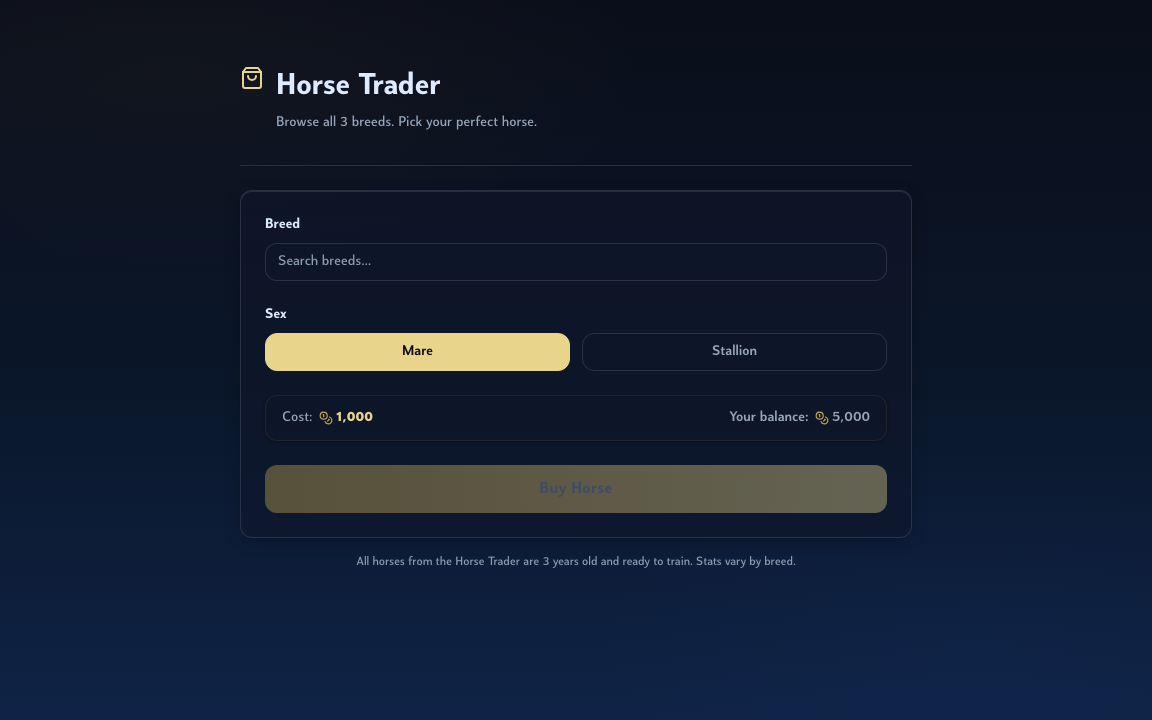
Test: HorseTraderPage — success path › shows horse name and stable link after successful purchase
Note: Pick a breed
Click the dropdown labelled "Breed".
click(576, 262)  # box [265, 243, 887, 281]
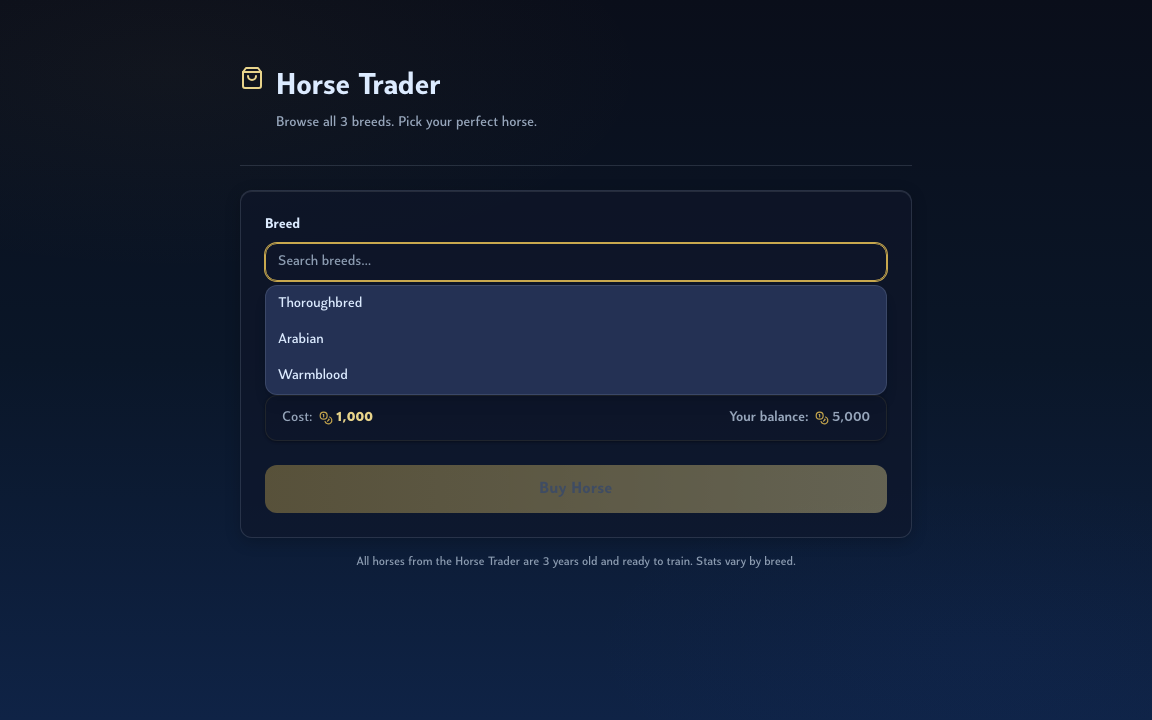
Click the option "Thoroughbred".
click(320, 304)  # box [278, 296, 362, 311]
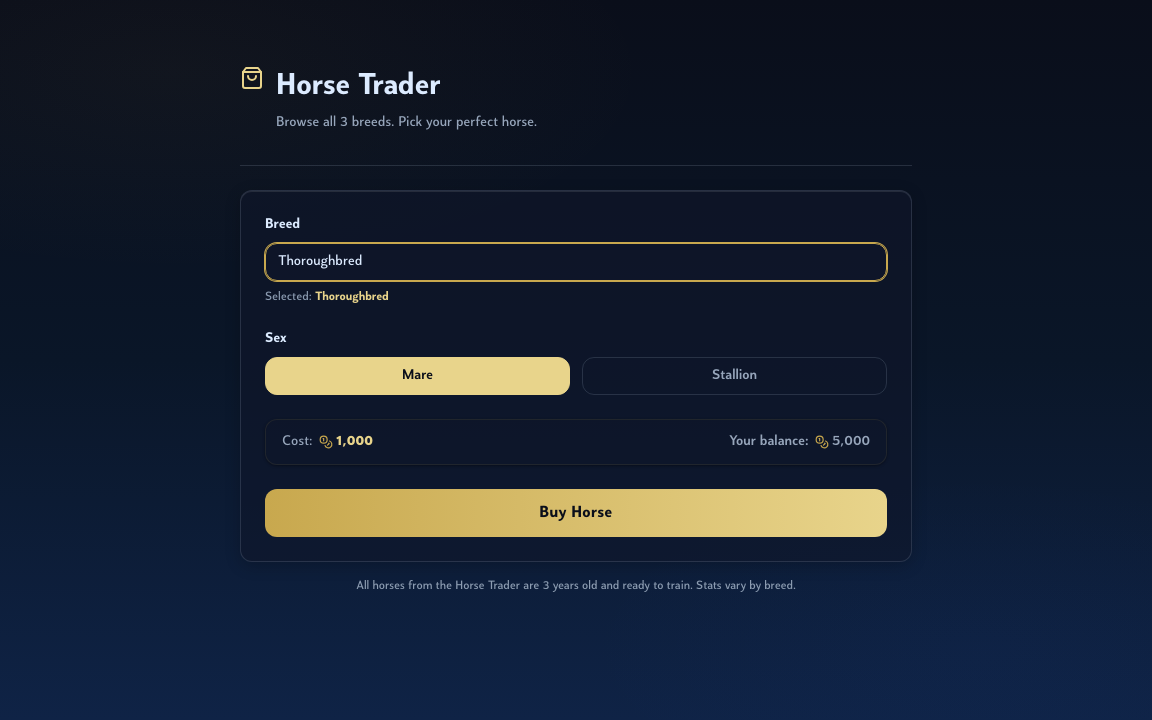
Now the button with test id "buy-horse-button" is enabled
Note: Click Buy
Click the button with test id "buy-horse-button".
click(576, 513)  # box [265, 489, 887, 537]
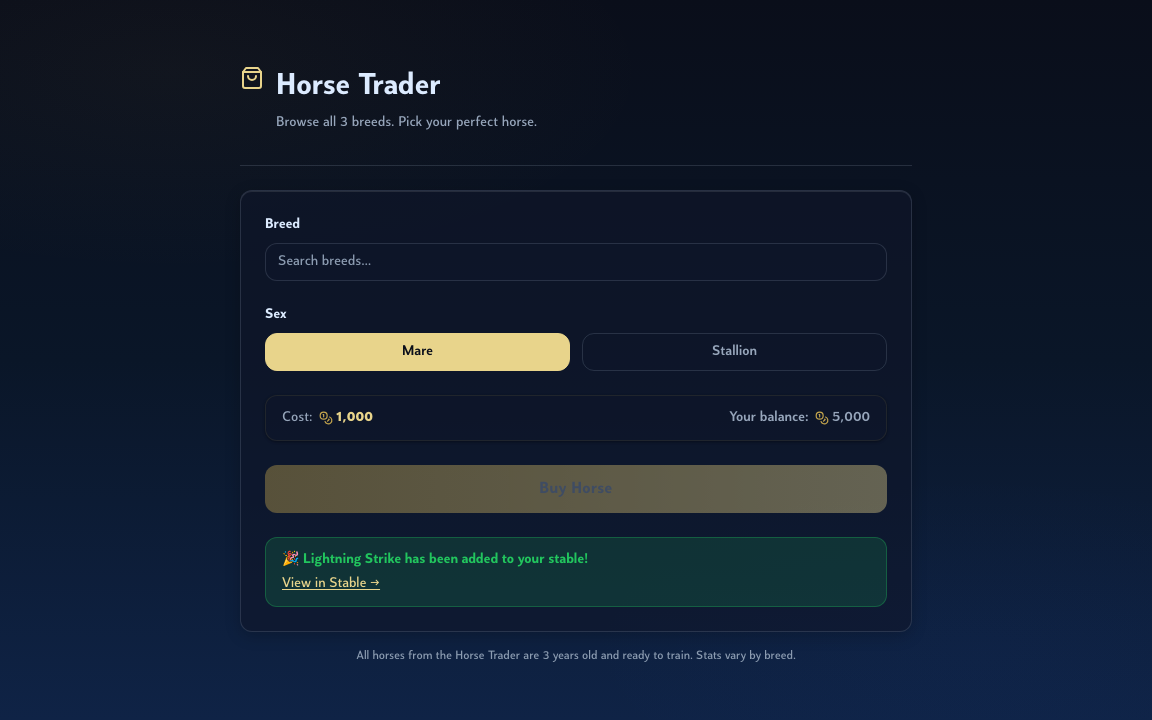
Now the element with test id "purchase-success" shows "Lightning Strike", box [303, 552, 401, 567]
